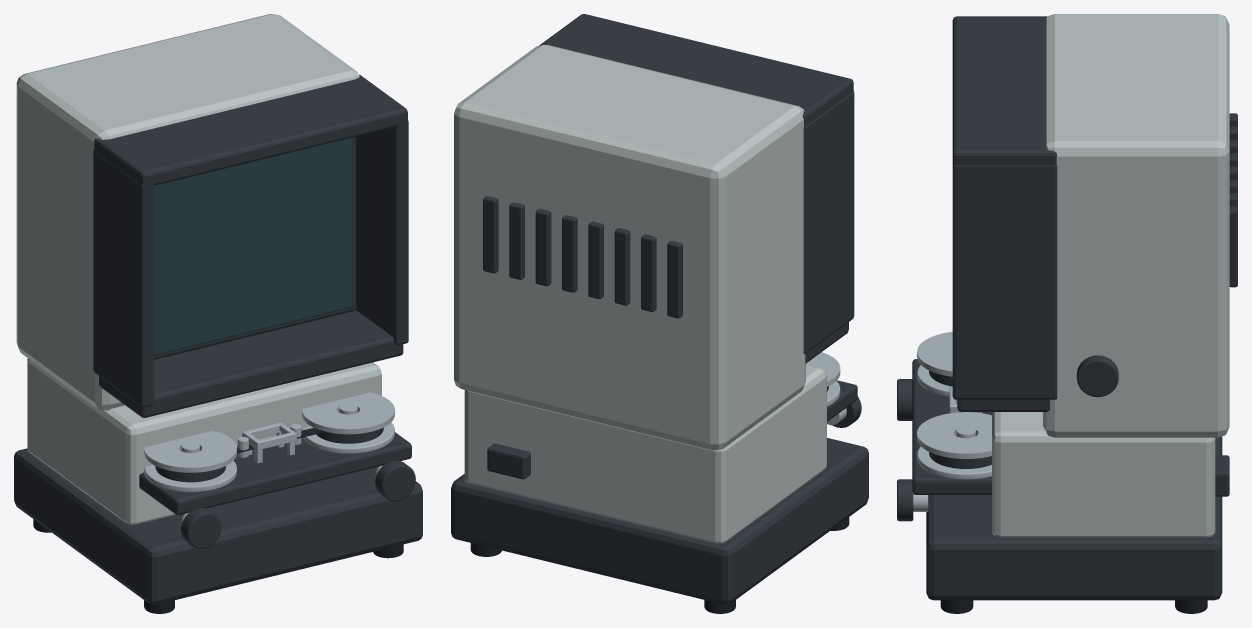
File: city-microfilm-reading-machine.glb
3 views of the same model, side by side, from view 1: azimuth 30°, elevation 25°; view 2: azimuth 150°, elevation 25°; view 3: azimuth 270°, elevation 25° (orthographic). The views are drawn at different scales.
Parts seen in each view (by area): view 1: Assembly | Dark mechanism trim, Assembly | Powder-coated light service metal, Assembly | Opaque inactive optical surface, Assembly | Brushed exposed steel, Assembly | Rubber feet and hoses; view 2: Assembly | Powder-coated light service metal, Assembly | Dark mechanism trim, Assembly | Brushed exposed steel, Assembly | Rubber feet and hoses; view 3: Assembly | Powder-coated light service metal, Assembly | Dark mechanism trim, Assembly | Brushed exposed steel, Assembly | Rubber feet and hoses.
Part boxes in pixels (bbox=[...]): Assembly | Dark mechanism trim: bbox=[14, 74, 422, 604]; Assembly | Powder-coated light service metal: bbox=[16, 14, 381, 524]; Assembly | Opaque inactive optical surface: bbox=[154, 137, 351, 355]; Assembly | Brushed exposed steel: bbox=[144, 392, 394, 525]; Assembly | Rubber feet and hoses: bbox=[33, 428, 403, 613]; Assembly | Powder-coated light service metal: bbox=[454, 45, 826, 543]; Assembly | Dark mechanism trim: bbox=[451, 14, 868, 604]; Assembly | Brushed exposed steel: bbox=[806, 352, 846, 425]; Assembly | Rubber feet and hoses: bbox=[470, 517, 849, 613]; Assembly | Powder-coated light service metal: bbox=[992, 14, 1229, 537]; Assembly | Dark mechanism trim: bbox=[897, 16, 1237, 600]; Assembly | Brushed exposed steel: bbox=[913, 331, 991, 511]; Assembly | Rubber feet and hoses: bbox=[940, 600, 1207, 613].
Bounding box in the file's own units: 0.52 × 0.7935 × 0.5205.
